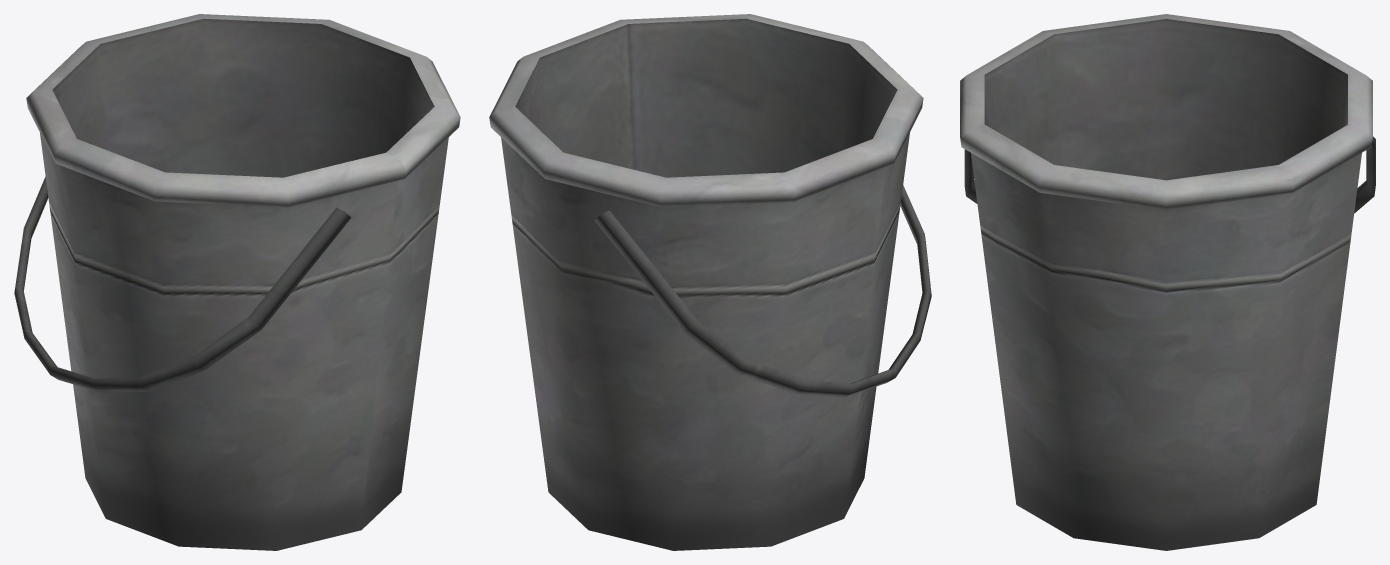
File: prop_bucket.fbx
The picture shows the model from 3 angles, left to right: view 1: azimuth 30°, elevation 25°; view 2: azimuth 150°, elevation 25°; view 3: azimuth 270°, elevation 25°; orthographic projection.
Visible parts, largest first — view 1: bucket1; view 2: bucket1; view 3: bucket1.
Part boxes in pixels (left/top/right/bottom): bucket1: left=14, top=14, right=460, bottom=550; bucket1: left=489, top=14, right=931, bottom=550; bucket1: left=960, top=14, right=1375, bottom=550.
Bounding box in the file's own units: 40.74 × 39.61 × 38.82.
1 material, 1 textured.
